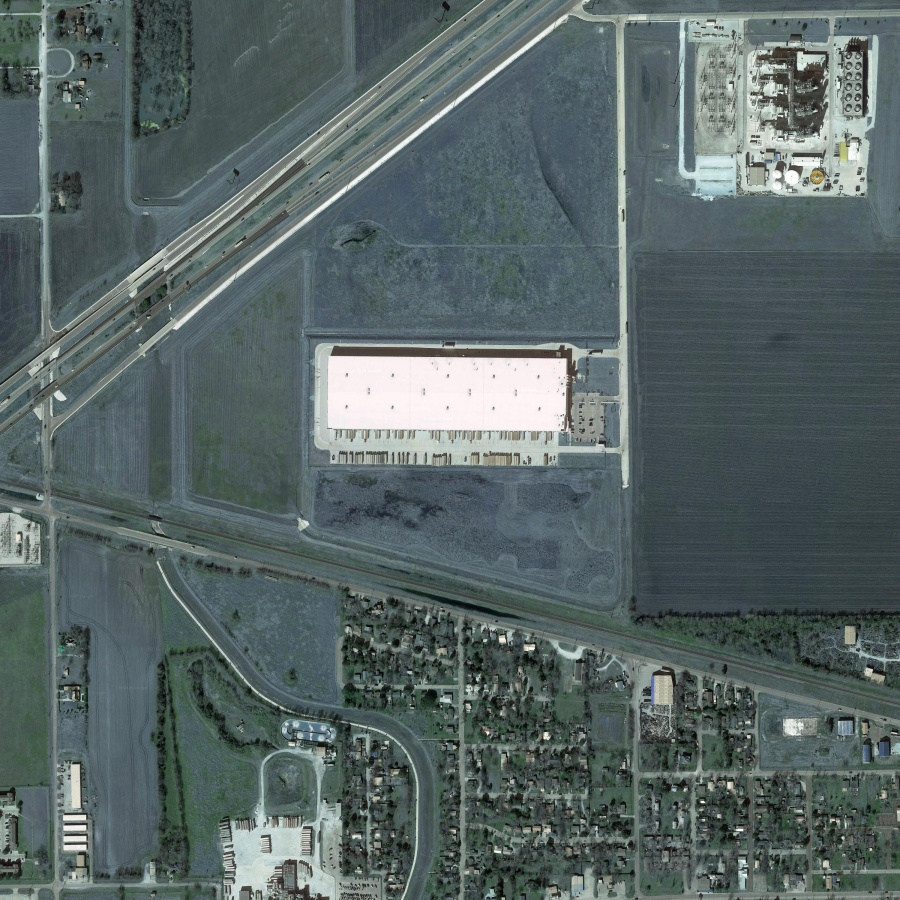PowerPlant: (681, 14, 875, 203)
